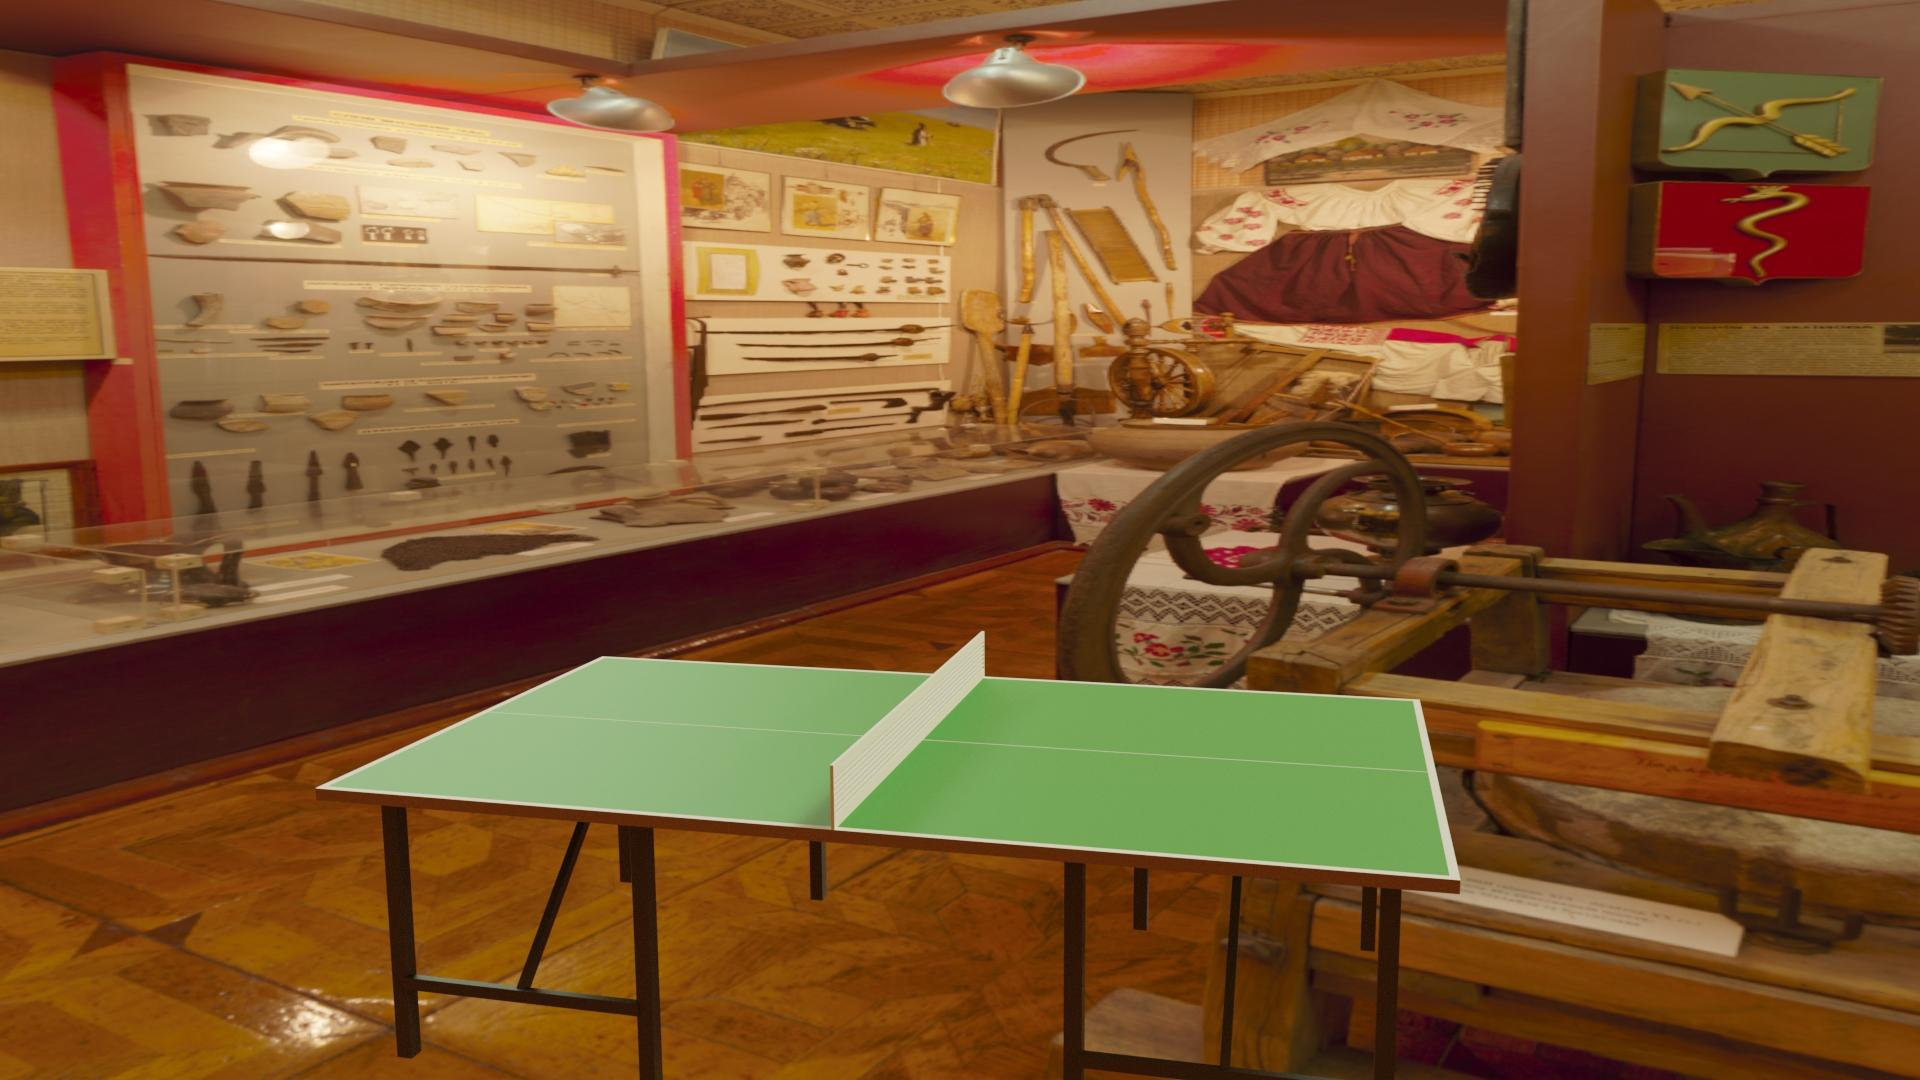table: (327, 658, 1449, 876)
